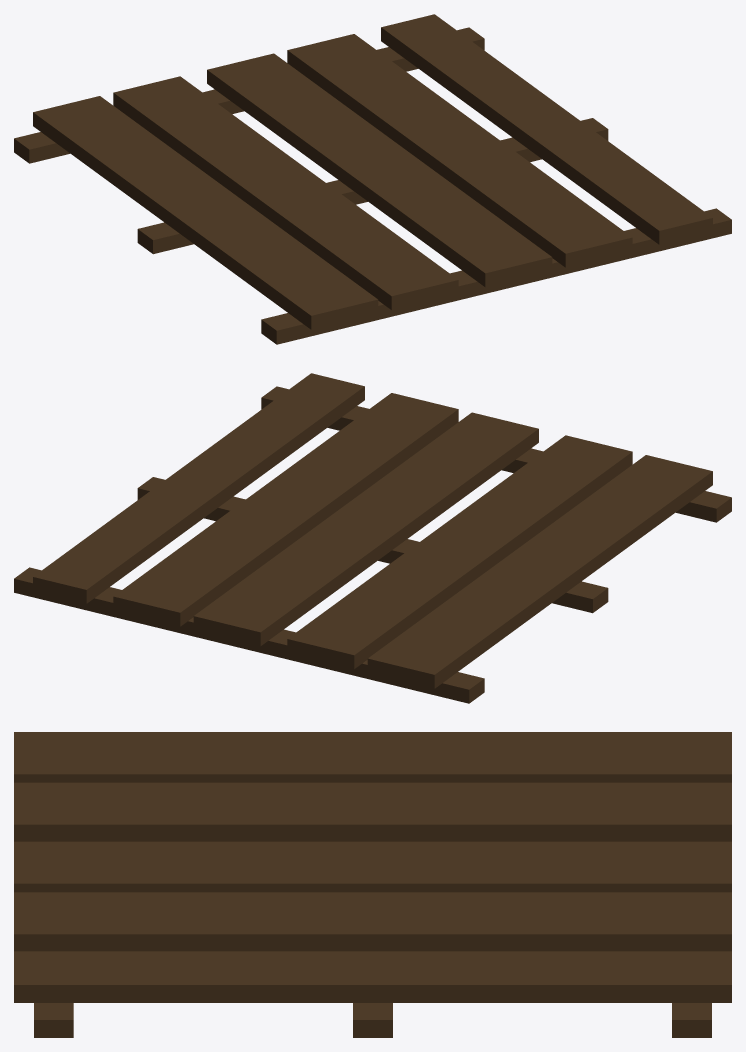
The model's file is Background_A_decowood_01.FBX.
3 renders of one model, top to bottom at view 1: azimuth 30°, elevation 25°; view 2: azimuth 150°, elevation 25°; view 3: azimuth 270°, elevation 25°, orthographic. The views are drawn at different scales.
Parts seen in each view (by area): view 1: Load_A-6; view 2: Load_A-6; view 3: Load_A-6.
Part boxes in pixels (<box>): Load_A-6: <box>14,14,731,344</box>; Load_A-6: <box>14,373,731,703</box>; Load_A-6: <box>14,732,731,1037</box>.
Size of the model in its own units: 3.4 by 0.2 by 3.6.
Materials: 1 (1 with a texture image).
